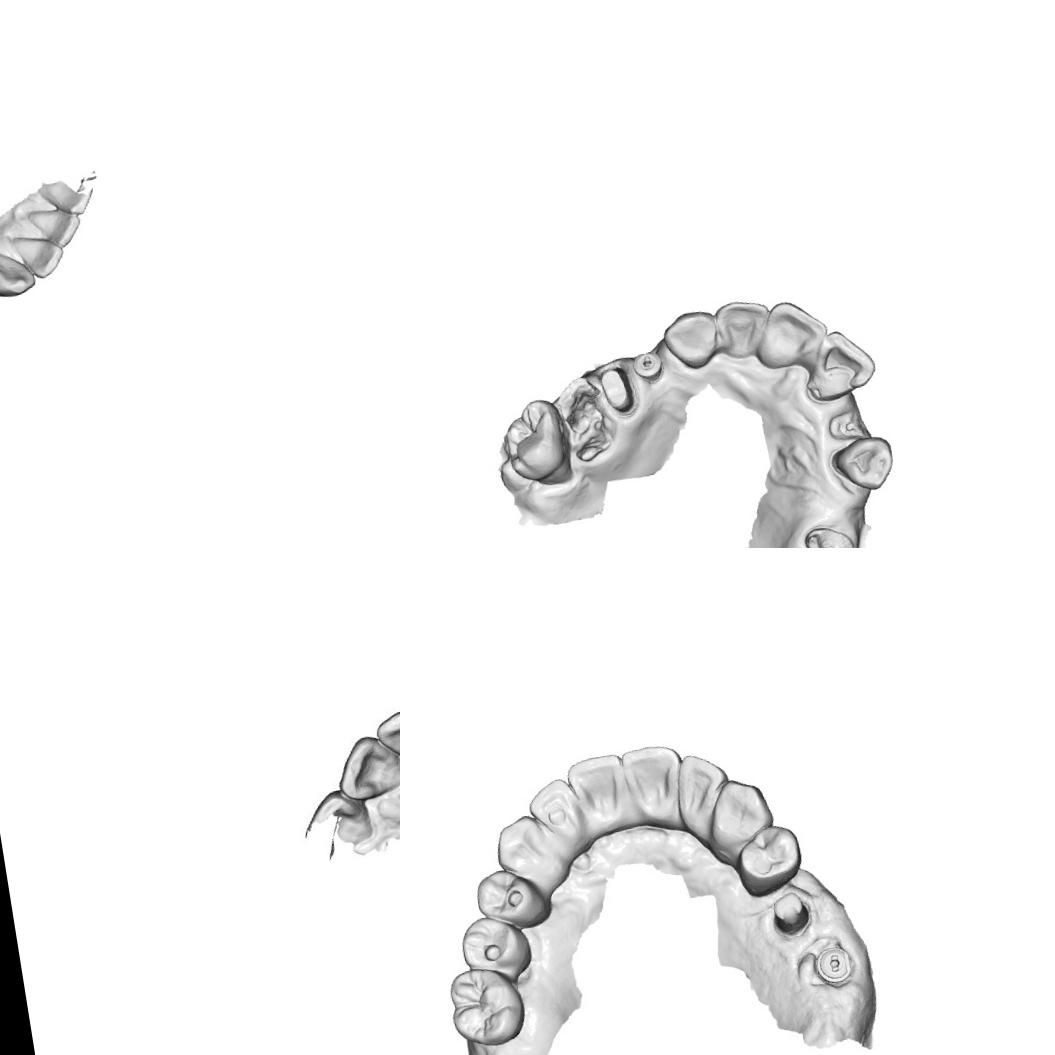abutment: (767, 888, 814, 940)
canine: (490, 809, 571, 897), (704, 773, 778, 858), (658, 306, 724, 374), (828, 432, 898, 496), (370, 699, 400, 773), (0, 244, 39, 300)
crown: (596, 360, 640, 422)
implant_minus: (812, 944, 855, 989), (628, 347, 668, 386)
incisor: (797, 324, 881, 406), (620, 740, 692, 832), (748, 294, 832, 371), (670, 748, 736, 842), (564, 752, 632, 838), (331, 730, 400, 810), (712, 294, 776, 362), (524, 776, 584, 841), (27, 201, 92, 256), (10, 229, 68, 282)
molar: (495, 394, 578, 494), (445, 961, 530, 1052)
premolar: (456, 910, 536, 990), (731, 821, 808, 900), (472, 862, 554, 934)
